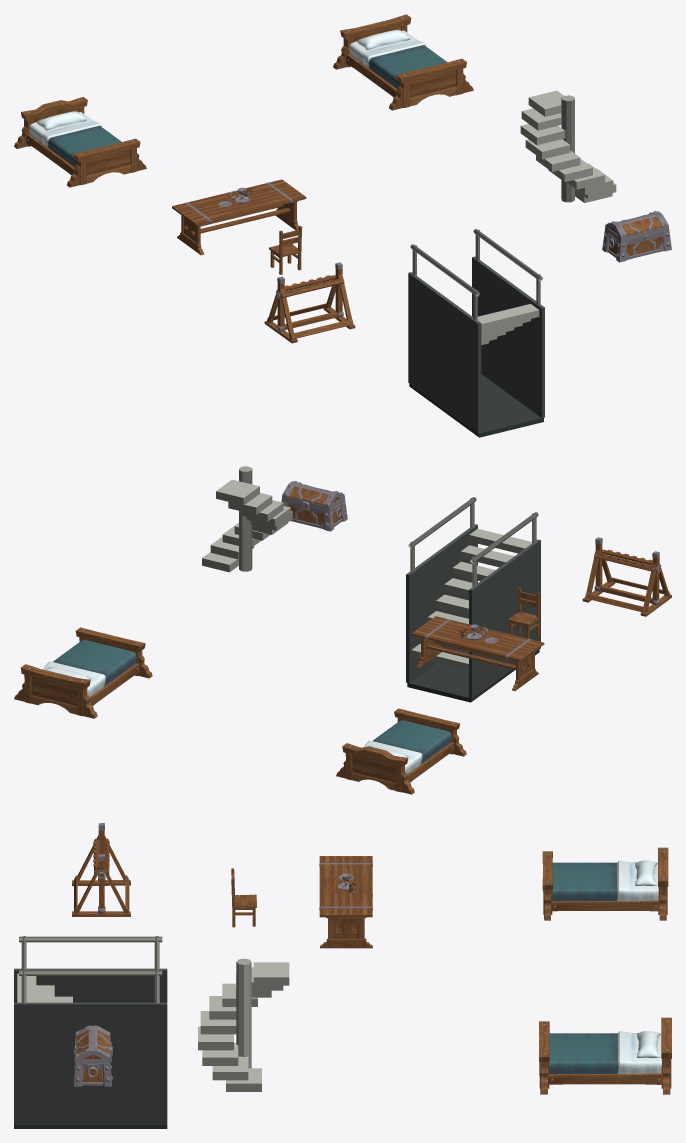
Rendered from coastal_beacon_watch.gltf.
3 renders of one model, top to bottom at view 1: azimuth 30°, elevation 25°; view 2: azimuth 150°, elevation 25°; view 3: azimuth 270°, elevation 25°, orthographic. The views are drawn at different scales.
Visible parts, largest first — view 1: fdaaf720662177919f20f07373ee553a37f0e579d9c44ff8a4237ecab9fa, c2df40a66453636f63457faec436195ffd3d73cde0dcddf7486ad93257fe, 9a2512b436b63bb7ea06e287302379ec7cd545afa3634b62d51eac88505a, 8b41e66350e3f7e9527be6e4822c1e31ef94d0343e329519af677355dd95, f4b04e3619cf212187b96076e7e940da50275113f8897ecbcd59f5921342, 71361f5f0e3651cbf9e718aa09a4ed053c36007d4373acffa9b28be748bc, 974a21d8ae8e0859926ffd9e6f304d80a7c46e7e5ee3150935a76e128408, ddcc3d6e1ffba2575a9ad5c6e02f5f299d918638f3e83151b75ace5729ff; view 2: fdaaf720662177919f20f07373ee553a37f0e579d9c44ff8a4237ecab9fa, c2df40a66453636f63457faec436195ffd3d73cde0dcddf7486ad93257fe, 9a2512b436b63bb7ea06e287302379ec7cd545afa3634b62d51eac88505a, 8b41e66350e3f7e9527be6e4822c1e31ef94d0343e329519af677355dd95, f4b04e3619cf212187b96076e7e940da50275113f8897ecbcd59f5921342, 71361f5f0e3651cbf9e718aa09a4ed053c36007d4373acffa9b28be748bc, 974a21d8ae8e0859926ffd9e6f304d80a7c46e7e5ee3150935a76e128408, ddcc3d6e1ffba2575a9ad5c6e02f5f299d918638f3e83151b75ace5729ff; view 3: fdaaf720662177919f20f07373ee553a37f0e579d9c44ff8a4237ecab9fa, c2df40a66453636f63457faec436195ffd3d73cde0dcddf7486ad93257fe, 8b41e66350e3f7e9527be6e4822c1e31ef94d0343e329519af677355dd95, 9a2512b436b63bb7ea06e287302379ec7cd545afa3634b62d51eac88505a, f4b04e3619cf212187b96076e7e940da50275113f8897ecbcd59f5921342, 71361f5f0e3651cbf9e718aa09a4ed053c36007d4373acffa9b28be748bc, 974a21d8ae8e0859926ffd9e6f304d80a7c46e7e5ee3150935a76e128408, ddcc3d6e1ffba2575a9ad5c6e02f5f299d918638f3e83151b75ace5729ff.
Boxes of the visible parts, x1=… form: fdaaf720662177919f20f07373ee553a37f0e579d9c44ff8a4237ecab9fa: x1=408, y1=229, x2=544, y2=437; c2df40a66453636f63457faec436195ffd3d73cde0dcddf7486ad93257fe: x1=333, y1=14, x2=473, y2=110; 9a2512b436b63bb7ea06e287302379ec7cd545afa3634b62d51eac88505a: x1=14, y1=97, x2=146, y2=187; 8b41e66350e3f7e9527be6e4822c1e31ef94d0343e329519af677355dd95: x1=520, y1=90, x2=616, y2=202; f4b04e3619cf212187b96076e7e940da50275113f8897ecbcd59f5921342: x1=172, y1=179, x2=306, y2=255; 71361f5f0e3651cbf9e718aa09a4ed053c36007d4373acffa9b28be748bc: x1=264, y1=262, x2=355, y2=343; 974a21d8ae8e0859926ffd9e6f304d80a7c46e7e5ee3150935a76e128408: x1=602, y1=211, x2=671, y2=262; ddcc3d6e1ffba2575a9ad5c6e02f5f299d918638f3e83151b75ace5729ff: x1=269, y1=226, x2=302, y2=274; fdaaf720662177919f20f07373ee553a37f0e579d9c44ff8a4237ecab9fa: x1=406, y1=497, x2=540, y2=702; c2df40a66453636f63457faec436195ffd3d73cde0dcddf7486ad93257fe: x1=14, y1=627, x2=152, y2=718; 9a2512b436b63bb7ea06e287302379ec7cd545afa3634b62d51eac88505a: x1=336, y1=708, x2=466, y2=794; 8b41e66350e3f7e9527be6e4822c1e31ef94d0343e329519af677355dd95: x1=202, y1=466, x2=292, y2=572; f4b04e3619cf212187b96076e7e940da50275113f8897ecbcd59f5921342: x1=412, y1=616, x2=544, y2=690; 71361f5f0e3651cbf9e718aa09a4ed053c36007d4373acffa9b28be748bc: x1=582, y1=537, x2=671, y2=616; 974a21d8ae8e0859926ffd9e6f304d80a7c46e7e5ee3150935a76e128408: x1=281, y1=481, x2=347, y2=531; ddcc3d6e1ffba2575a9ad5c6e02f5f299d918638f3e83151b75ace5729ff: x1=508, y1=587, x2=540, y2=638; fdaaf720662177919f20f07373ee553a37f0e579d9c44ff8a4237ecab9fa: x1=14, y1=936, x2=167, y2=1128; c2df40a66453636f63457faec436195ffd3d73cde0dcddf7486ad93257fe: x1=539, y1=1017, x2=671, y2=1094; 8b41e66350e3f7e9527be6e4822c1e31ef94d0343e329519af677355dd95: x1=198, y1=958, x2=289, y2=1091; 9a2512b436b63bb7ea06e287302379ec7cd545afa3634b62d51eac88505a: x1=542, y1=847, x2=668, y2=920; f4b04e3619cf212187b96076e7e940da50275113f8897ecbcd59f5921342: x1=319, y1=856, x2=372, y2=948; 71361f5f0e3651cbf9e718aa09a4ed053c36007d4373acffa9b28be748bc: x1=72, y1=823, x2=130, y2=916; 974a21d8ae8e0859926ffd9e6f304d80a7c46e7e5ee3150935a76e128408: x1=73, y1=1025, x2=112, y2=1086; ddcc3d6e1ffba2575a9ad5c6e02f5f299d918638f3e83151b75ace5729ff: x1=231, y1=868, x2=256, y2=927.
Size of the model in its own units: 9.97 by 5.1 by 12.87.
Materials: 20 (18 with a texture image).
